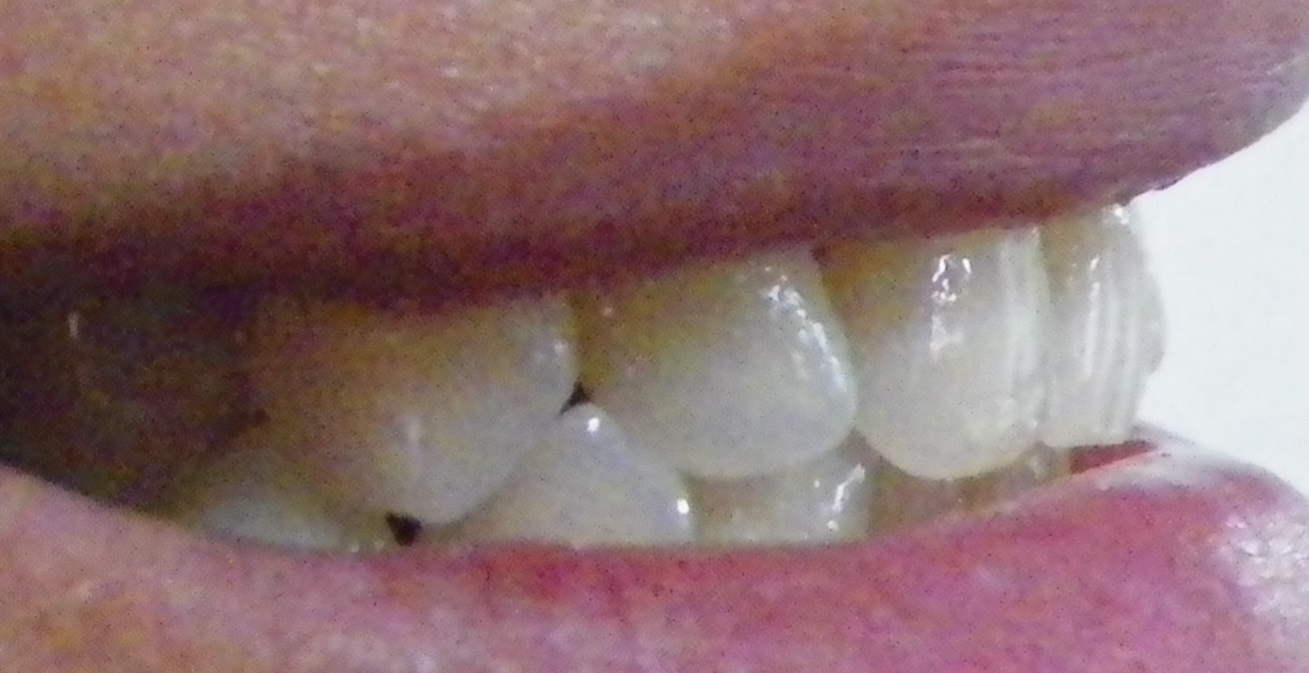boca: (176, 195, 1181, 544)
